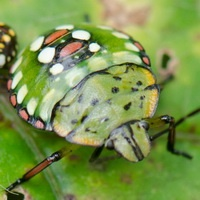insect: (0, 24, 199, 199)
